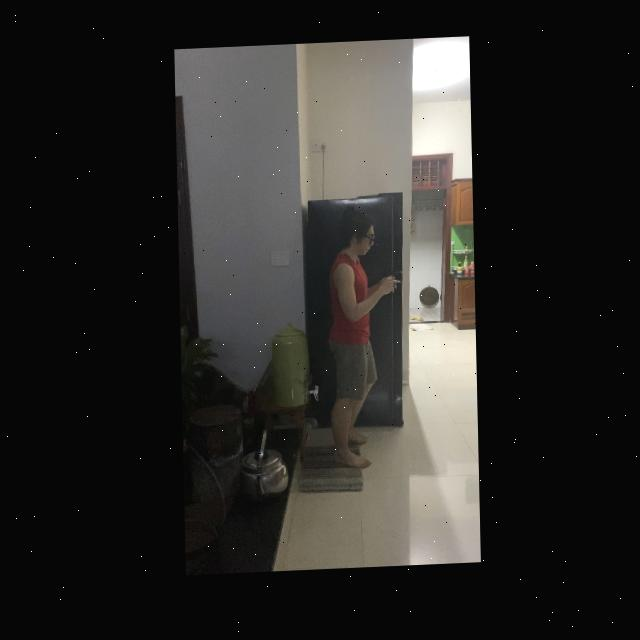cigarette: (389, 282, 399, 287)
